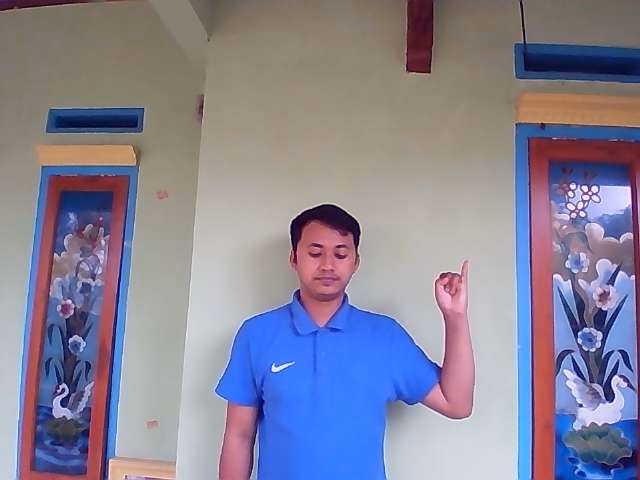I: (434, 258, 471, 318)
